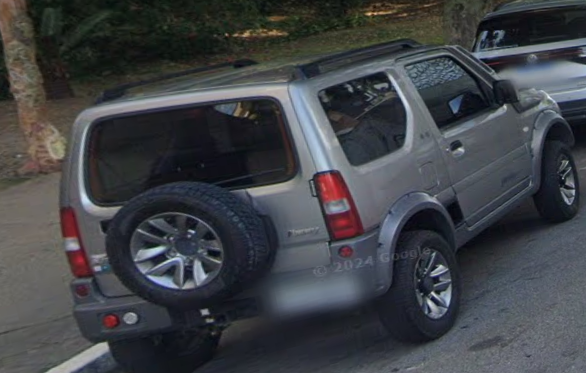car: (57, 45, 580, 348)
